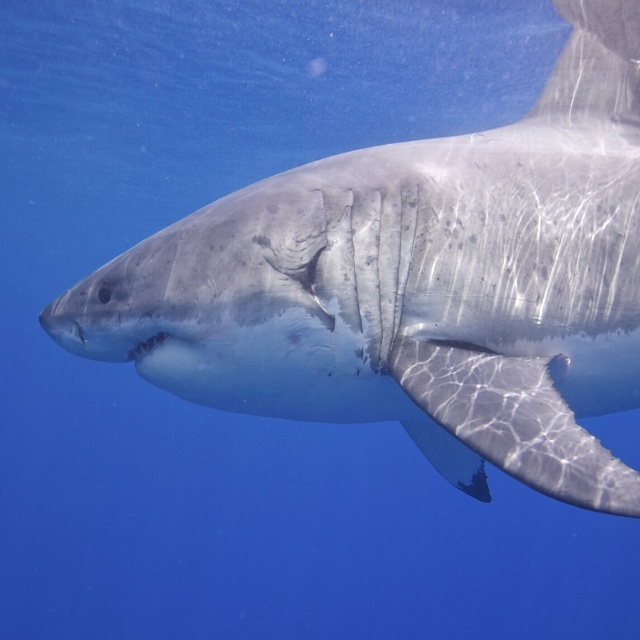Shark: (38, 0, 640, 520)
